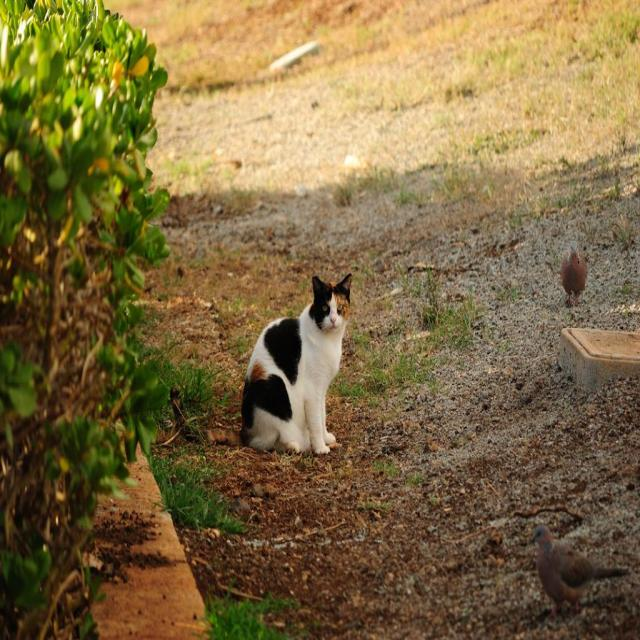Cat: (168, 270, 352, 456)
